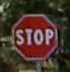stop: (10, 13, 59, 60)
